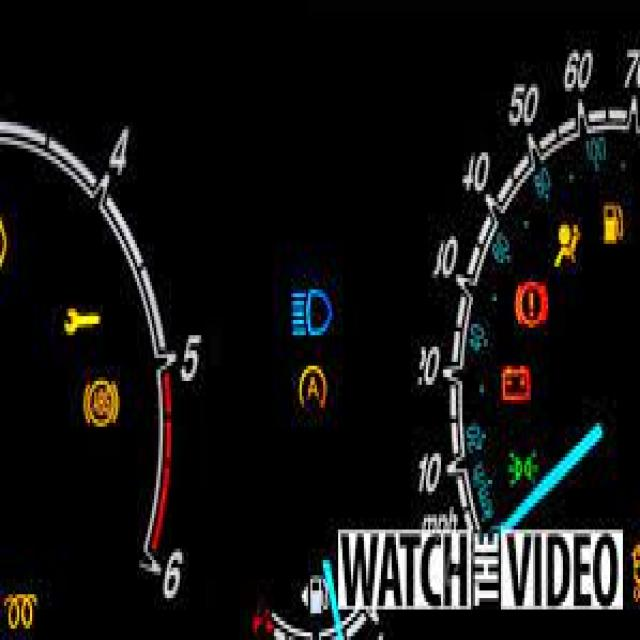kontrolka: (286, 278, 342, 351), (514, 267, 551, 337), (76, 375, 122, 431), (2, 578, 42, 636), (498, 360, 540, 410), (504, 444, 544, 496), (553, 217, 586, 275), (600, 194, 626, 250)
